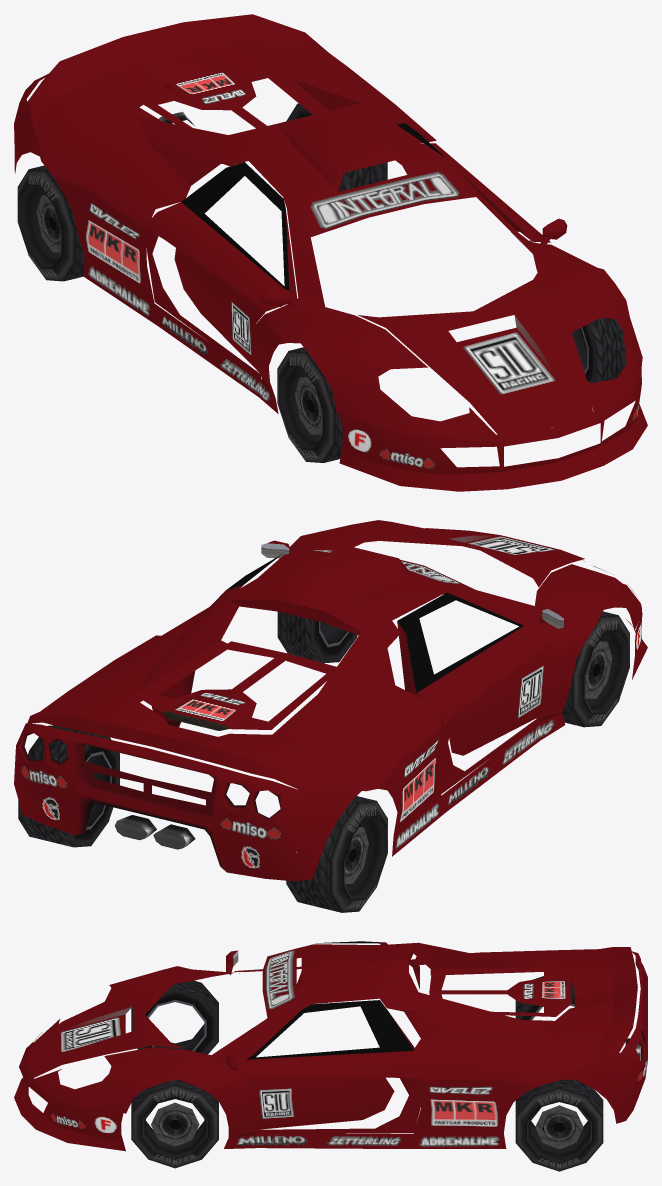
File: car-SUPR_Car4.glb
3 renders of one model, top to bottom at view 1: azimuth 30°, elevation 25°; view 2: azimuth 150°, elevation 25°; view 3: azimuth 270°, elevation 25°, orthographic. The views are drawn at different scales.
Visible parts, largest first — view 1: SUPR_Car4; view 2: SUPR_Car4; view 3: SUPR_Car4.
Boxes of the visible parts, x1,y1,x2,y2 form: SUPR_Car4: (14, 14, 647, 491); SUPR_Car4: (14, 520, 647, 912); SUPR_Car4: (14, 941, 647, 1171).
Bounding box in the file's own units: 2.16 × 1.28 × 4.76.
19 materials, 19 textured.
